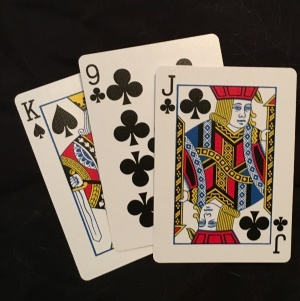card: (154, 64, 292, 263), (16, 91, 114, 281), (80, 53, 158, 248)
